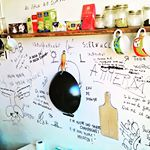cups: (109, 28, 132, 57), (132, 26, 150, 57), (3, 34, 21, 54)
